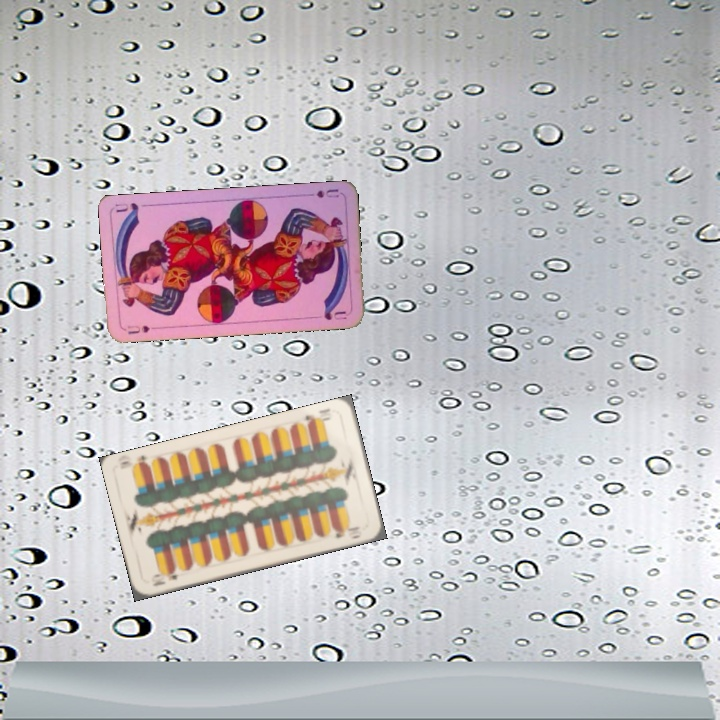E10: (147, 566, 182, 589), (301, 411, 333, 428)
SU: (301, 185, 341, 200), (124, 321, 161, 337)
